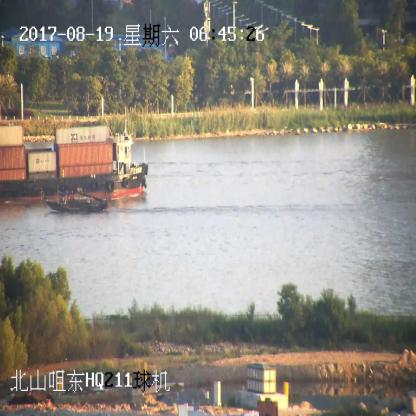Fishing Boat: (49, 197, 108, 216)
